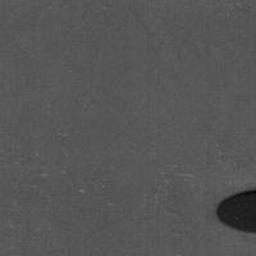Punching: (216, 189, 256, 233)
